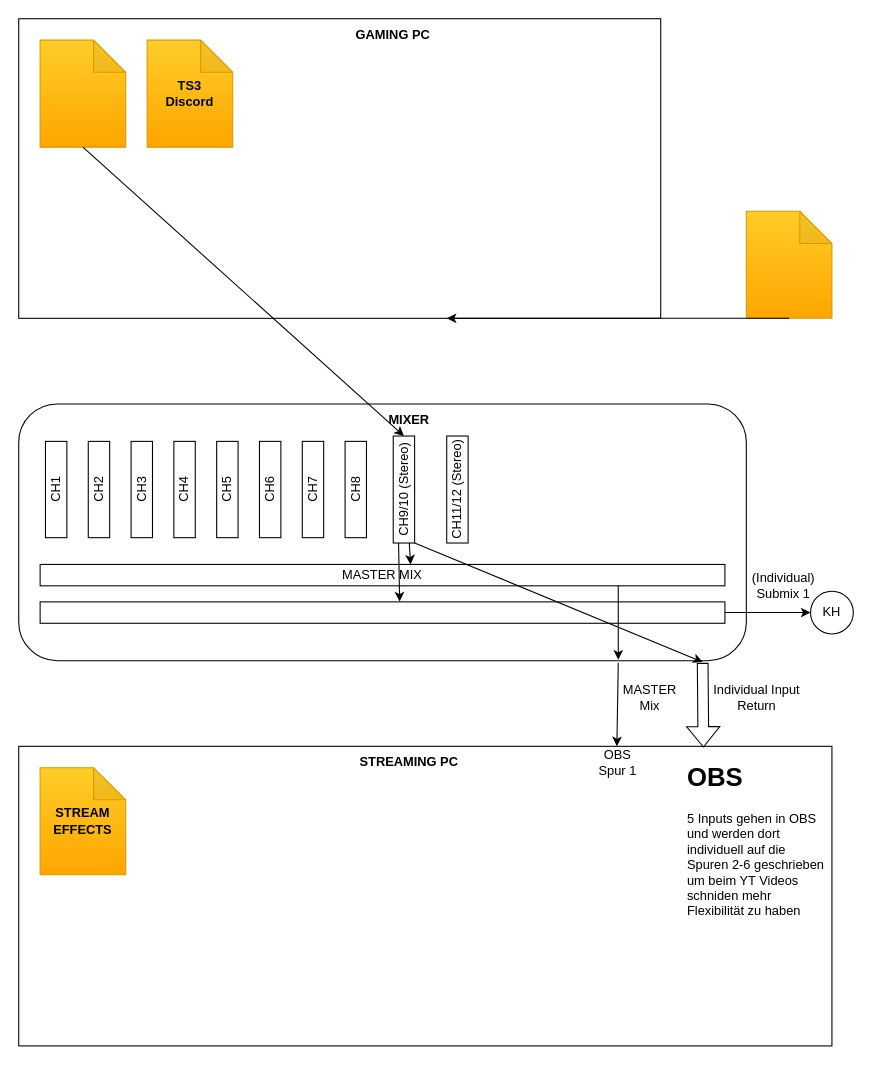
Image size: 872x1065. Some labels were removed from this diagram. Each missing label, with the box of its shape:
MIC: (745, 210, 832, 318)
SUBMIX 1: (39, 601, 725, 623)
Win MAIN: (39, 39, 126, 147)
